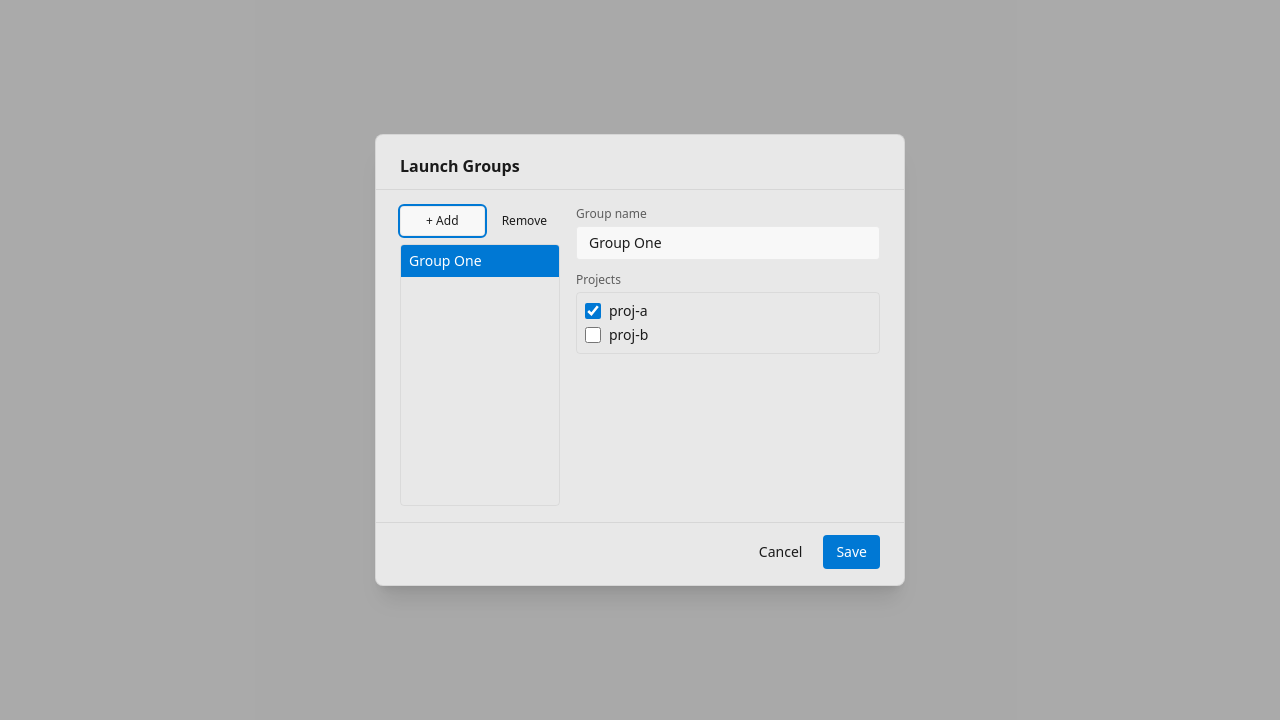
GroupManagerDialog › can add a new group
Expected: the option "Group One" is shown, [401, 245, 559, 277]
Click the button "+ Add". click: (442,221)
box: [400, 206, 485, 236]
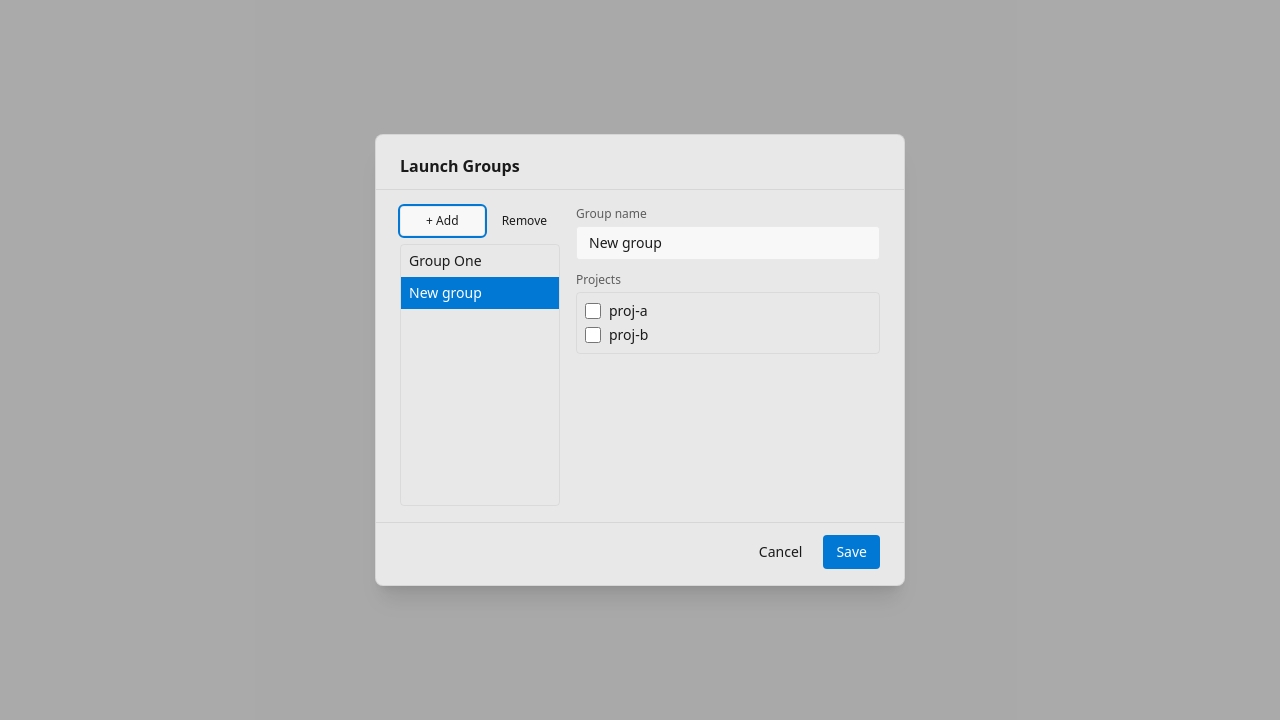
Result: the option "New group" is shown at [401, 277, 559, 309]
